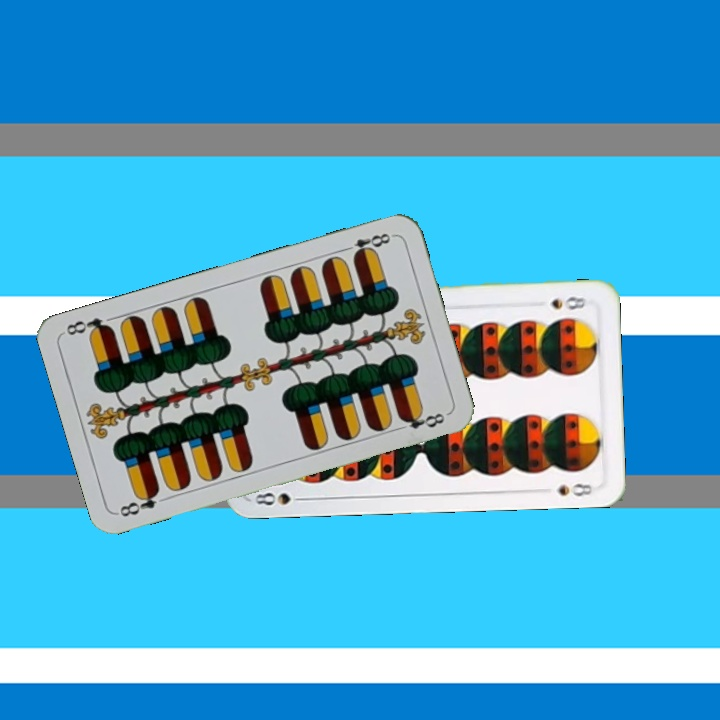E8: (338, 229, 396, 261), (115, 485, 162, 520)
S8: (251, 488, 310, 509), (546, 292, 588, 313)
